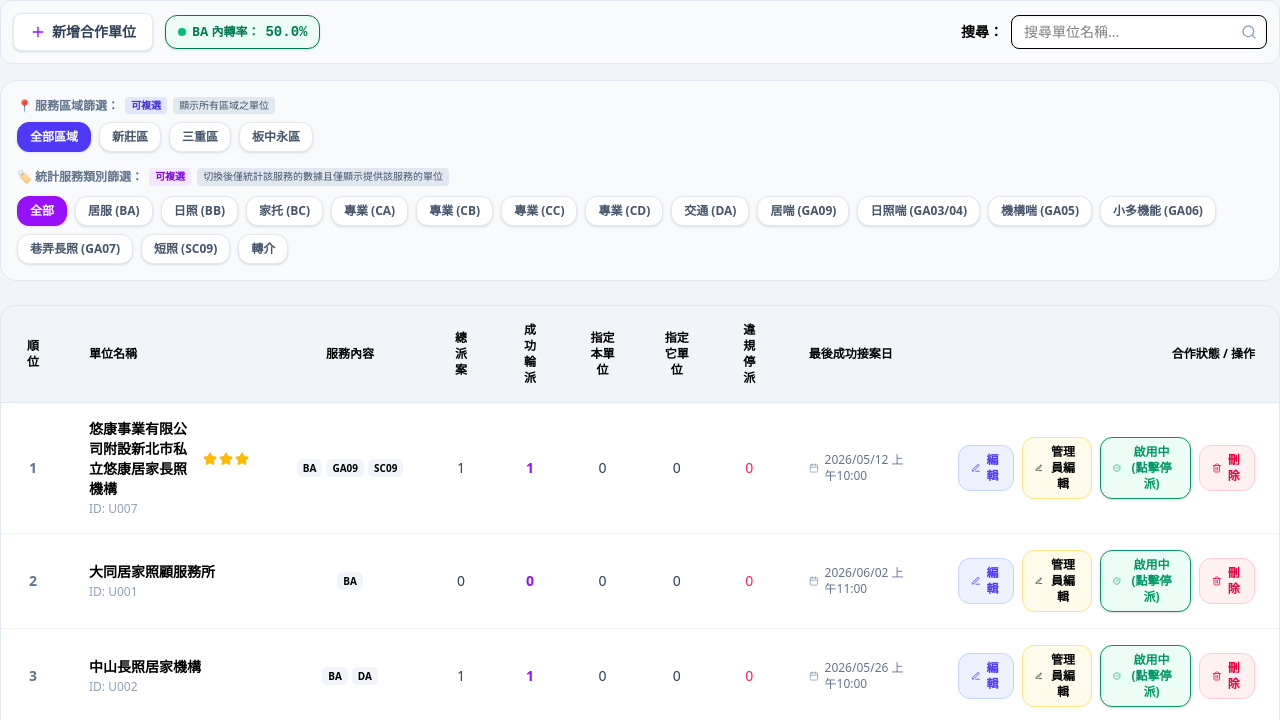
Test: Units Page Integration Test › should prevent adding duplicate unit name with instant UI warning and disabled submit button
The image size is (1280, 720).
Click the button "新增合作單位" at [83, 32], box [13,13,153,51]
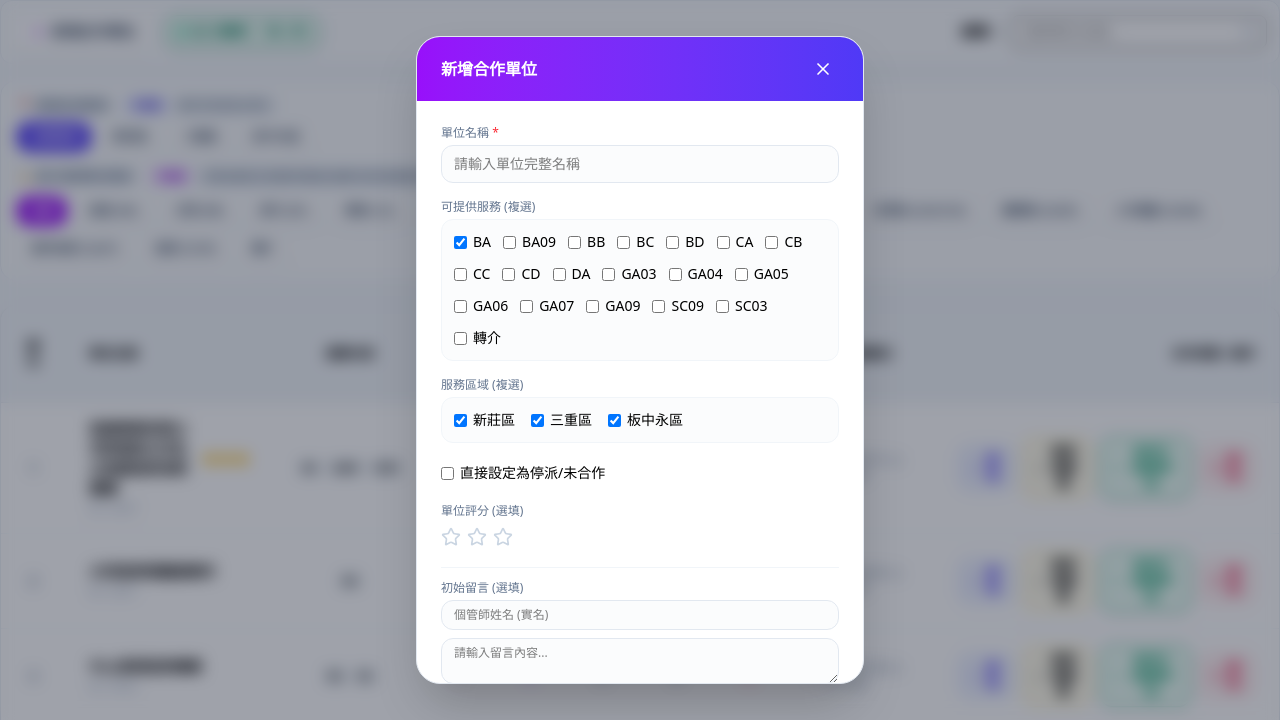
輸入系統中已存在的單位名稱（例如：大同居家照顧服務所）
Type "  大同居家照顧服務所  " into the field with placeholder "請輸入單位完整名稱" at [640, 164], box [441,145,839,183]
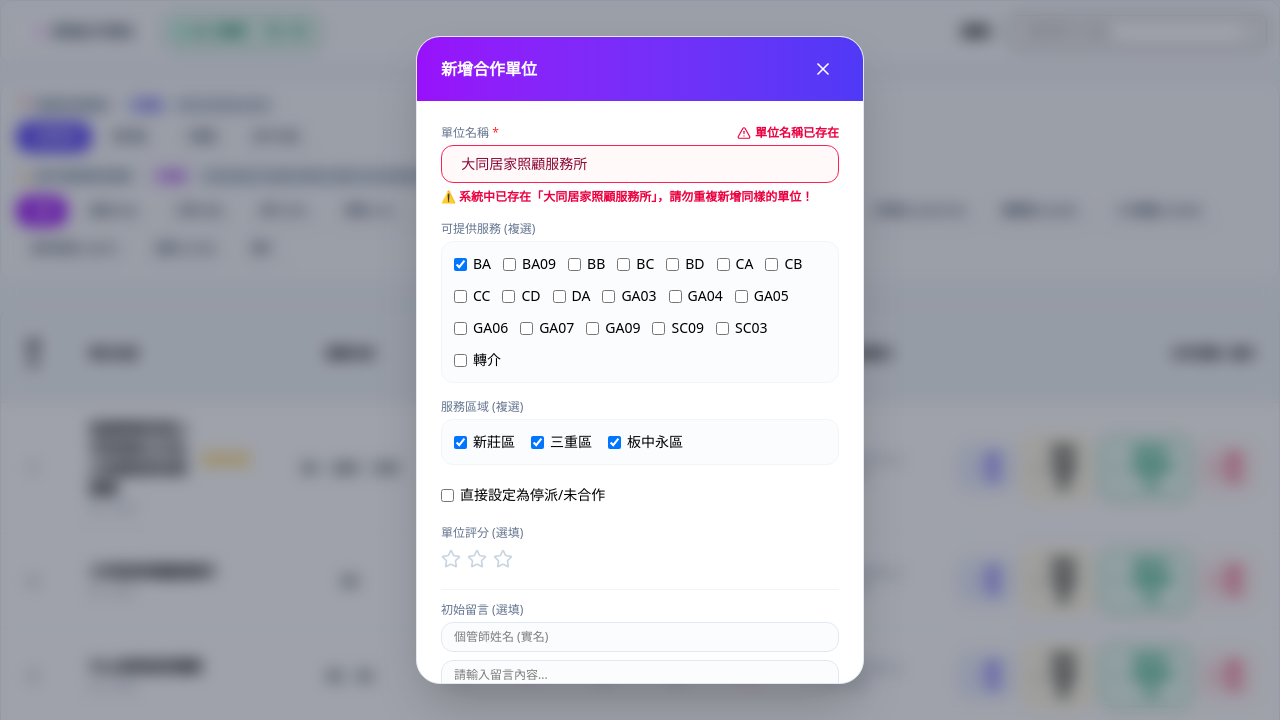
expect the text "單位名稱已存在" is shown: met, box [737,125,839,141]
expect the text "⚠️ 系統中已存在「大同居家照顧服務所」，請勿重複新增同樣的單位！" is shown: met, box [441,189,839,205]
換成不重複的名稱後警告消失且可點擊
Replace the text in the field with placeholder "請輸入單位完整名稱" with "全新獨立合作單位" at [640, 164], box [441,145,839,183]
(page scrolled)
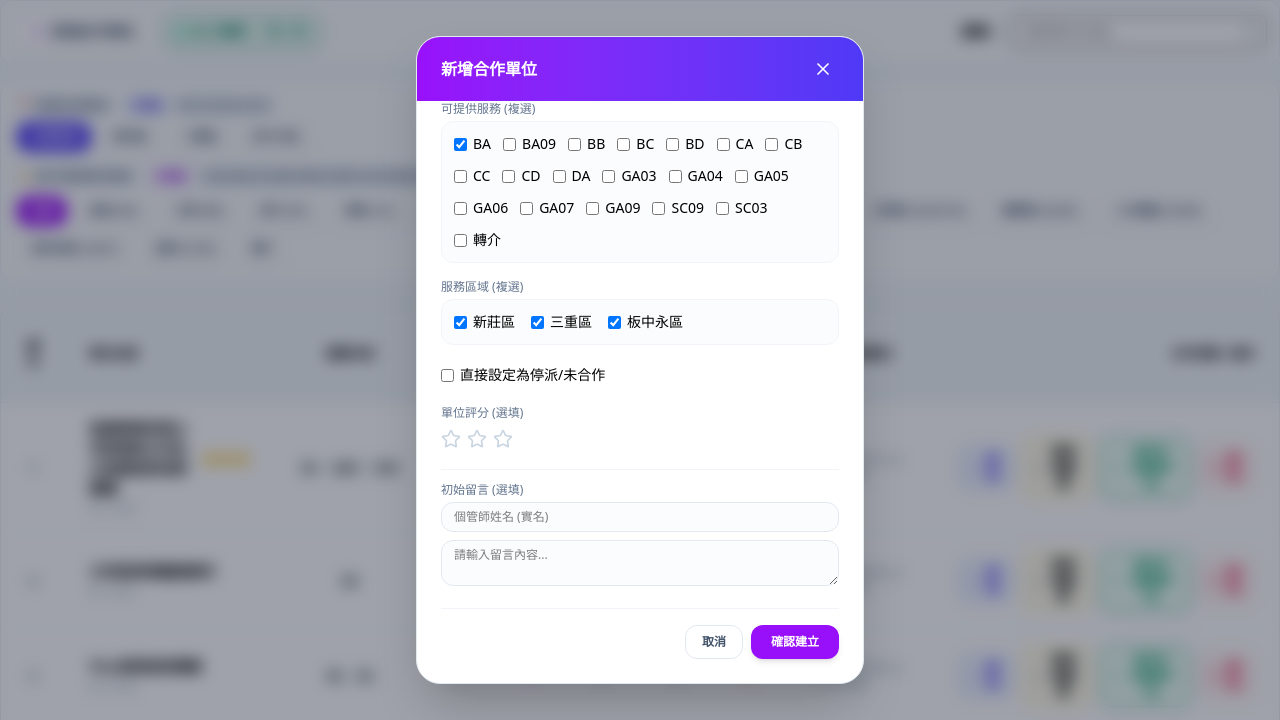
expect the text "單位名稱已存在" is gone: met
expect the button "確認建立" is enabled: met, box [751,625,839,659]
